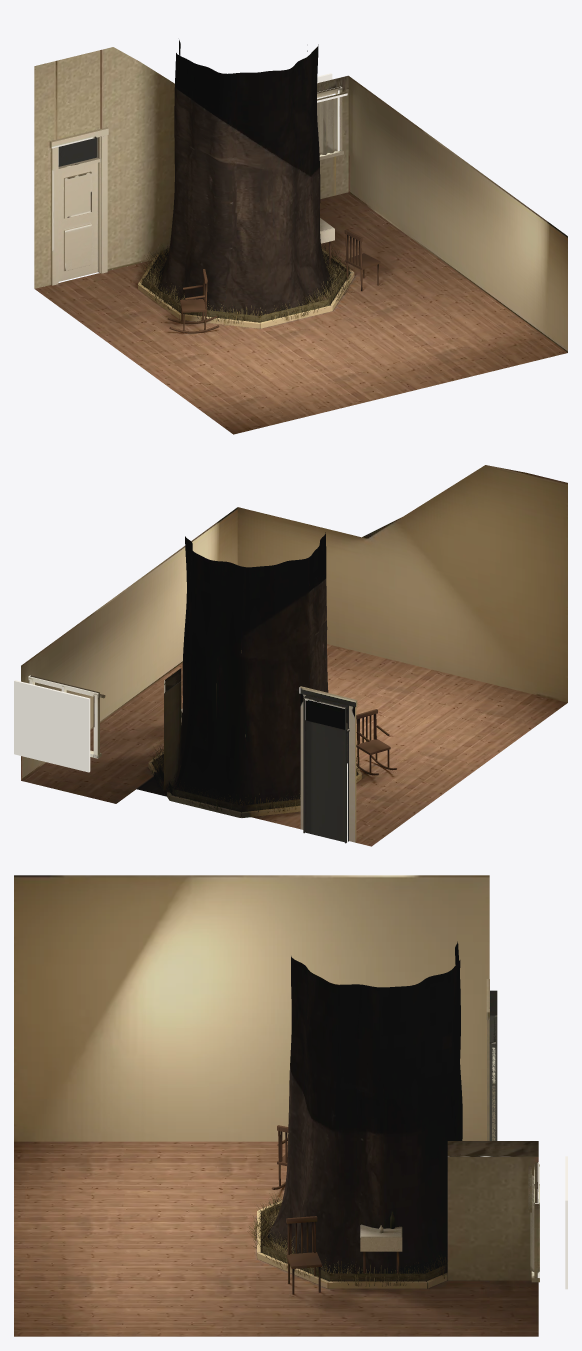
Rendered from muir-hutchings-house-mobile.glb.
3 renders of one model, top to bottom at view 1: azimuth 30°, elevation 25°; view 2: azimuth 150°, elevation 25°; view 3: azimuth 270°, elevation 25°, orthographic. The views are drawn at different scales.
Parts seen in each view (by area): view 1: floor, artifact_cedar_trunk, plain_walls, papered_walls, artifact_door, grass_blades, bed_edging, grass_band, artifact_lace_curtains, artifact_rocking_chair, side_chair, window_frame (+1 smaller); view 2: plain_walls, artifact_cedar_trunk, floor, artifact_door, daylight_window, papered_walls, grass_blades, bed_edging, artifact_rocking_chair, grass_band, window_frame; view 3: plain_walls, floor, artifact_cedar_trunk, papered_walls, grass_blades, bed_edging, artifact_door, frieze, grass_band, side_chair, artifact_table, window_frame.
Part boxes in pixels (bbox=[...]): floor: bbox=[35, 192, 567, 434]; artifact_cedar_trunk: bbox=[157, 40, 332, 315]; plain_walls: bbox=[348, 76, 567, 352]; papered_walls: bbox=[34, 47, 348, 288]; artifact_door: bbox=[50, 127, 108, 285]; grass_blades: bbox=[137, 242, 352, 323]; bed_edging: bbox=[138, 248, 354, 328]; grass_band: bbox=[142, 267, 349, 322]; artifact_lace_curtains: bbox=[317, 98, 337, 155]; artifact_rocking_chair: bbox=[167, 269, 219, 333]; side_chair: bbox=[344, 229, 380, 291]; window_frame: bbox=[317, 86, 347, 159]; plain_walls: bbox=[21, 465, 567, 780]; artifact_cedar_trunk: bbox=[177, 532, 328, 805]; floor: bbox=[21, 644, 567, 846]; artifact_door: bbox=[299, 686, 357, 843]; daylight_window: bbox=[14, 680, 90, 772]; papered_walls: bbox=[164, 681, 181, 795]; grass_blades: bbox=[150, 746, 360, 812]; bed_edging: bbox=[148, 751, 361, 817]; artifact_rocking_chair: bbox=[356, 709, 396, 775]; grass_band: bbox=[153, 757, 356, 812]; window_frame: bbox=[28, 675, 105, 758]; plain_walls: bbox=[14, 875, 489, 1141]; floor: bbox=[14, 1141, 538, 1336]; artifact_cedar_trunk: bbox=[267, 941, 462, 1273]; papered_walls: bbox=[447, 1157, 538, 1280]; grass_blades: bbox=[247, 1191, 447, 1286]; bed_edging: bbox=[257, 1200, 447, 1288]; artifact_door: bbox=[486, 979, 497, 1140]; frieze: bbox=[447, 1141, 538, 1156]; grass_band: bbox=[262, 1245, 447, 1281]; side_chair: bbox=[286, 1216, 321, 1294]; artifact_table: bbox=[360, 1224, 402, 1251]; window_frame: bbox=[528, 1162, 539, 1282].
Bounding box in the file's own units: 6.6 × 4.55 × 7.92.
4 materials, 3 textured.
